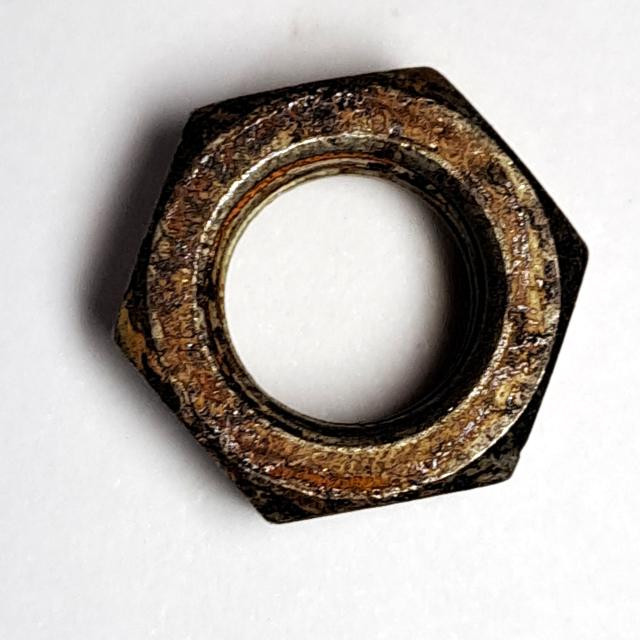Rust: (96, 51, 600, 547)
